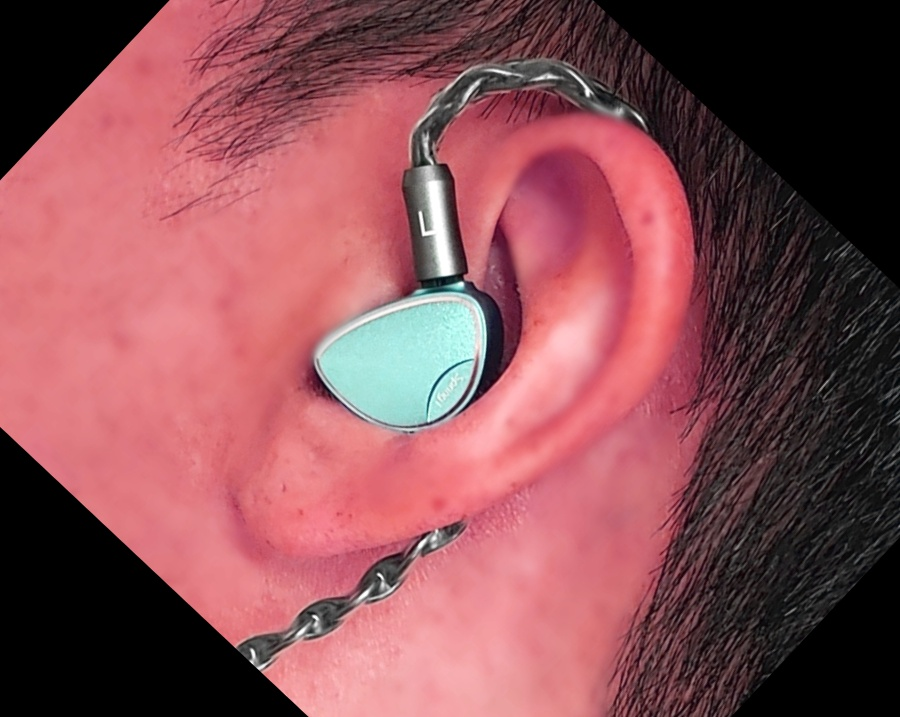earphone: (190, 68, 775, 666)
